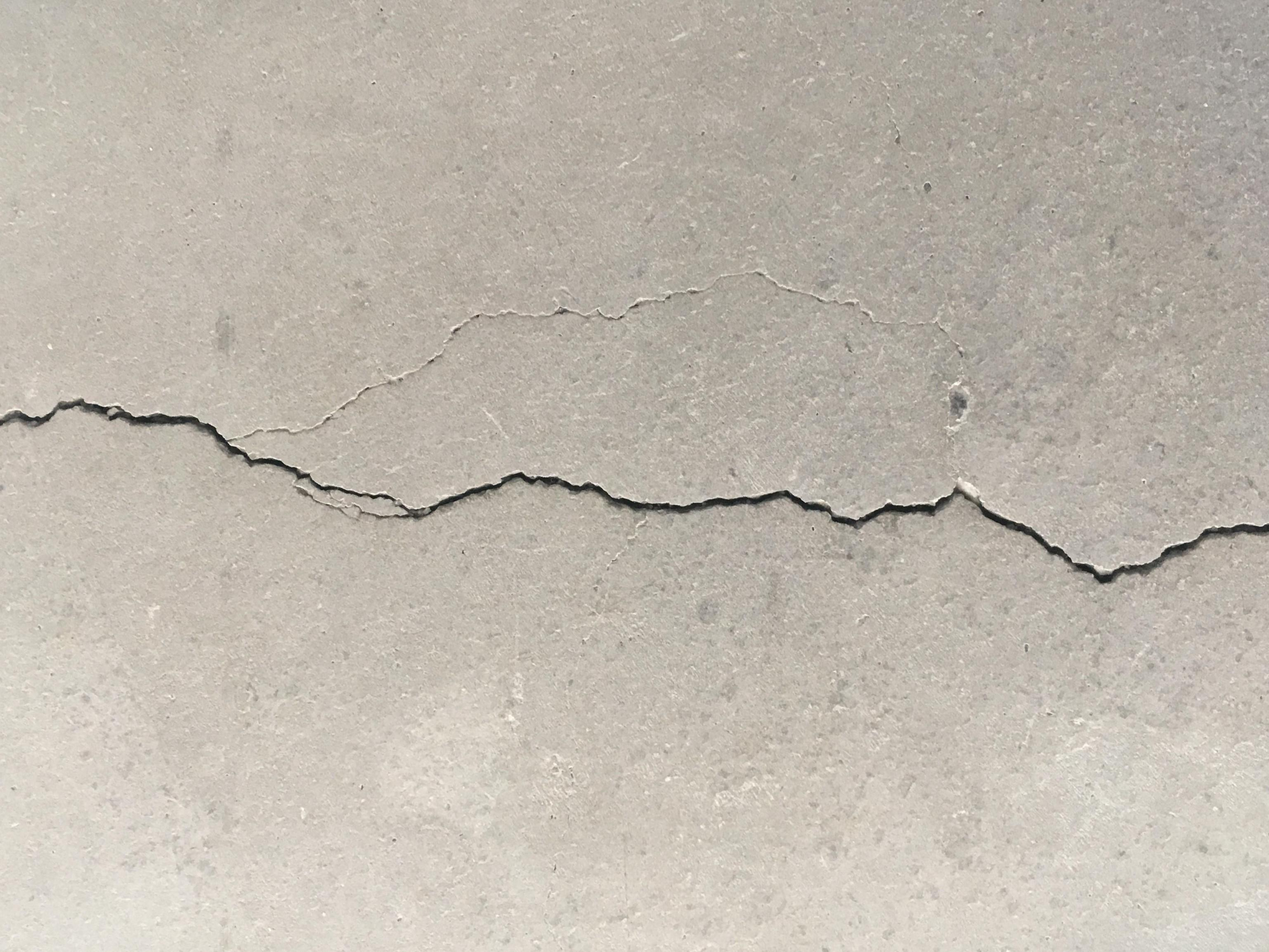Horizontal Settlement Crack: (2, 266, 1265, 584)
